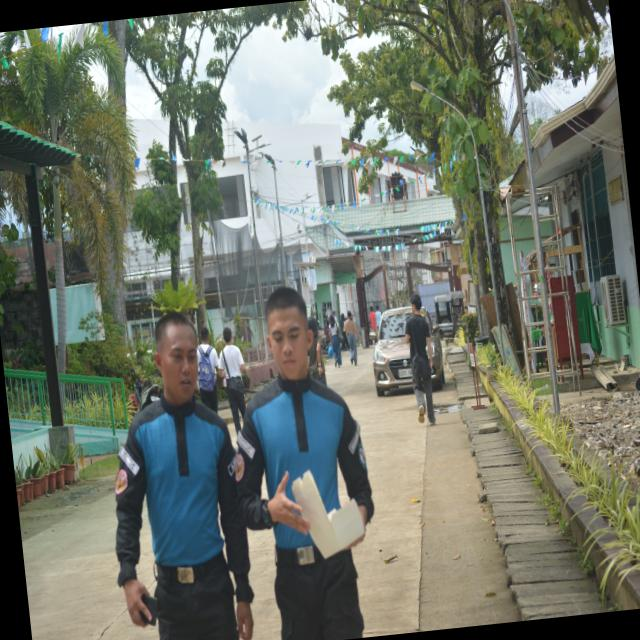person: (235, 287, 373, 639), (115, 313, 252, 639), (404, 293, 434, 425), (218, 327, 244, 433), (196, 328, 217, 412), (307, 316, 325, 385), (343, 312, 358, 365), (328, 315, 341, 367), (368, 306, 377, 335)
